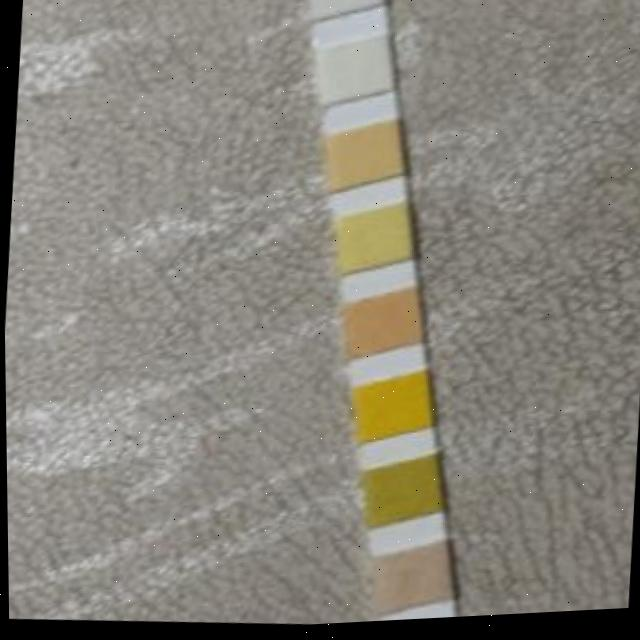Blood: (352, 380, 427, 444)
Ketone: (373, 549, 447, 616)
Leukocytes: (311, 0, 380, 20)
Nitrite: (315, 41, 390, 108)
Protein: (336, 212, 409, 275)
SpGravity: (365, 461, 436, 529)
Urobilinogen: (324, 126, 400, 193)
pH: (342, 294, 417, 359)
